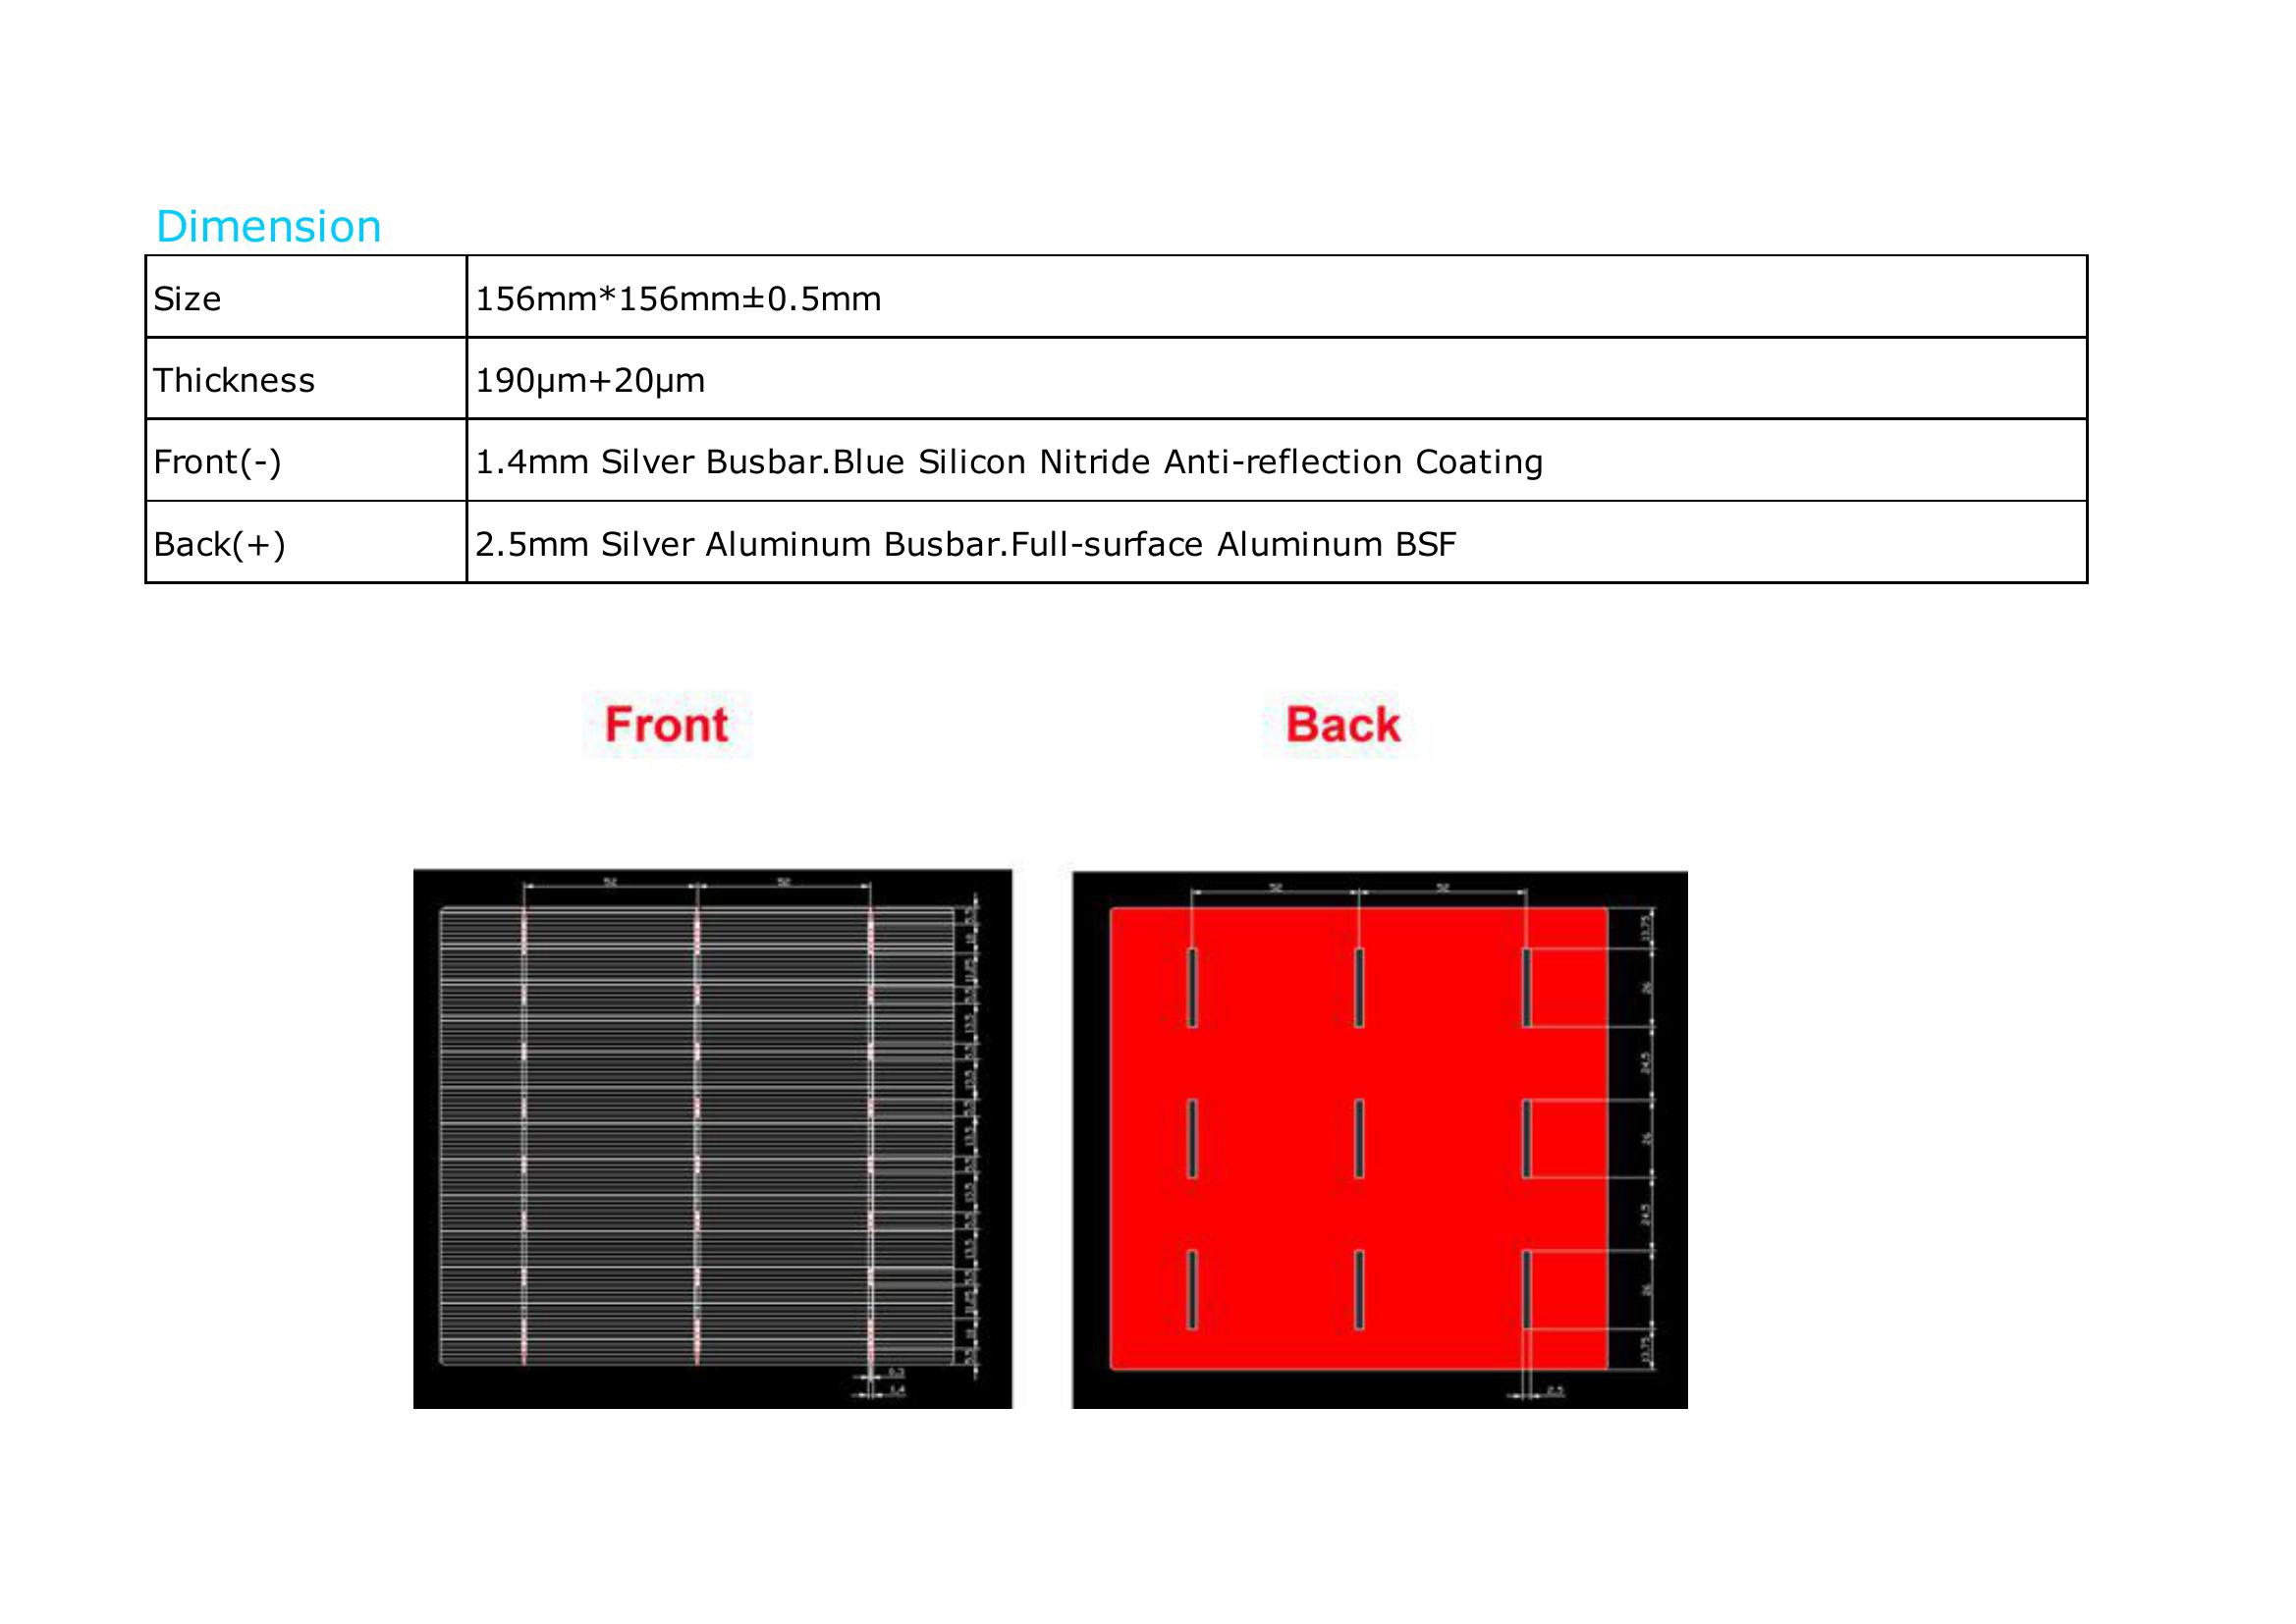table: (130, 246, 2106, 592)
